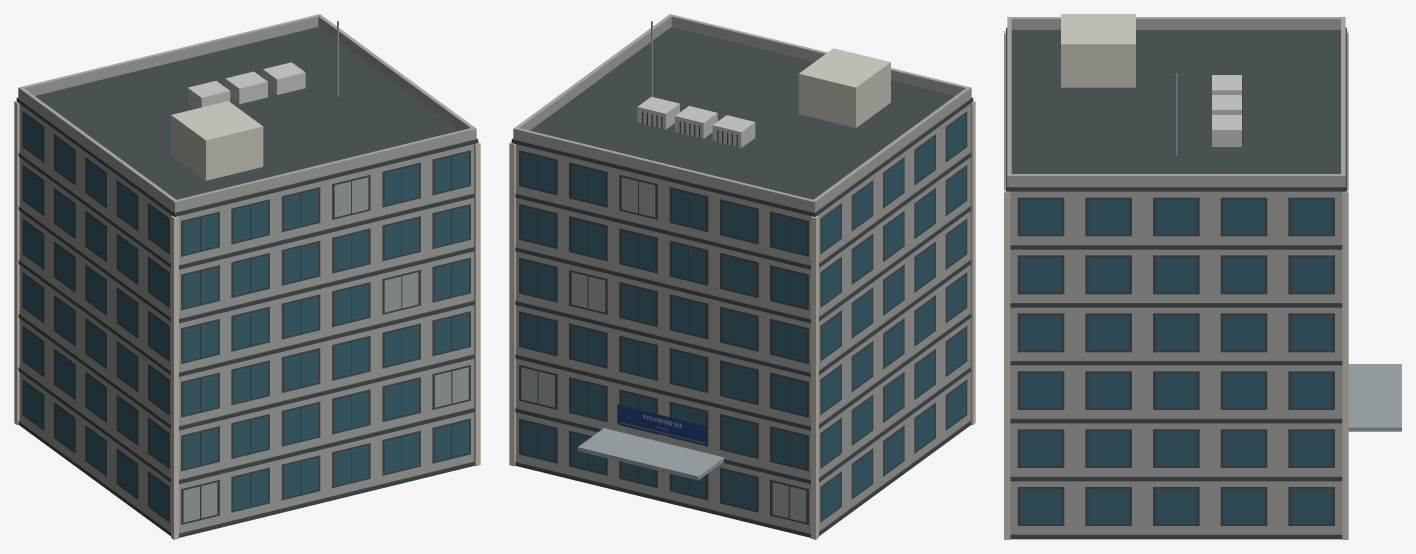
File: office_midrise.glb
3 renders of one model, left to right at view 1: azimuth 30°, elevation 25°; view 2: azimuth 150°, elevation 25°; view 3: azimuth 270°, elevation 25°, orthographic. The views are drawn at different scales.
Visible parts, largest first — view 1: office_midrise; view 2: office_midrise; view 3: office_midrise.
Part boxes in pixels (<box>): office_midrise: <box>14,14,480,539</box>; office_midrise: <box>509,14,975,539</box>; office_midrise: <box>1004,14,1401,539</box>.
Size of the model in its own units: 20.33 by 25.4 by 21.16.
8 materials, 1 textured.
